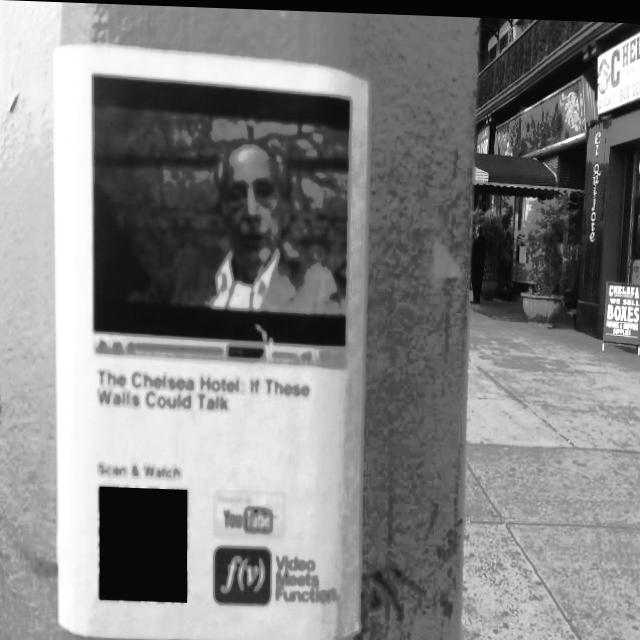qr_code: (100, 486, 187, 601)
